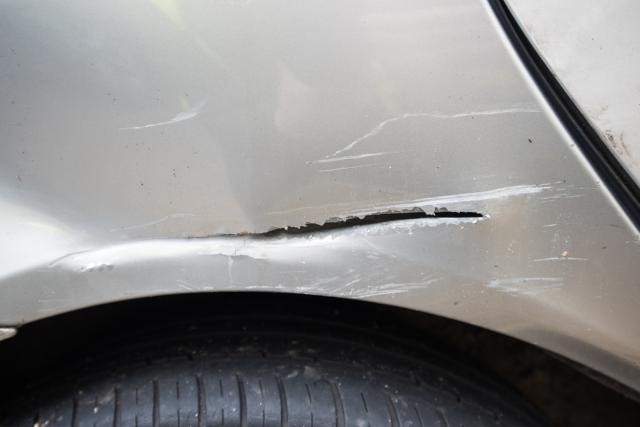crack: (171, 210, 486, 244)
scratch: (292, 179, 596, 300), (305, 100, 541, 172)
